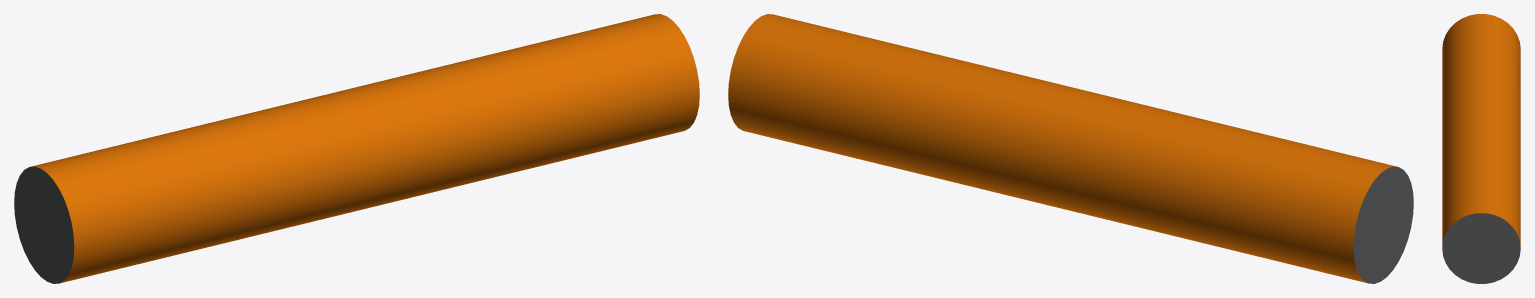
The picture shows the model from 3 angles, left to right: view 1: azimuth 30°, elevation 25°; view 2: azimuth 150°, elevation 25°; view 3: azimuth 270°, elevation 25°; orthographic projection. The views are drawn at different scales.
Parts seen in each view (by area): view 1: a3_LOD0, a3_col; view 2: a3_LOD0, a3_col; view 3: a3_LOD0, a3_col.
Boxes of the visible parts, <box> form: a3_LOD0: <box>14,14,699,283</box>; a3_col: <box>14,167,74,283</box>; a3_LOD0: <box>728,14,1413,283</box>; a3_col: <box>1354,167,1411,283</box>; a3_LOD0: <box>1442,14,1520,283</box>; a3_col: <box>1443,215,1519,282</box>.
Size of what is drawn, in the model's own units: 72 by 11.93 by 12.
